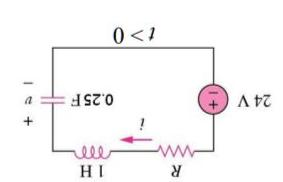Capacitor: (36, 86, 71, 111)
